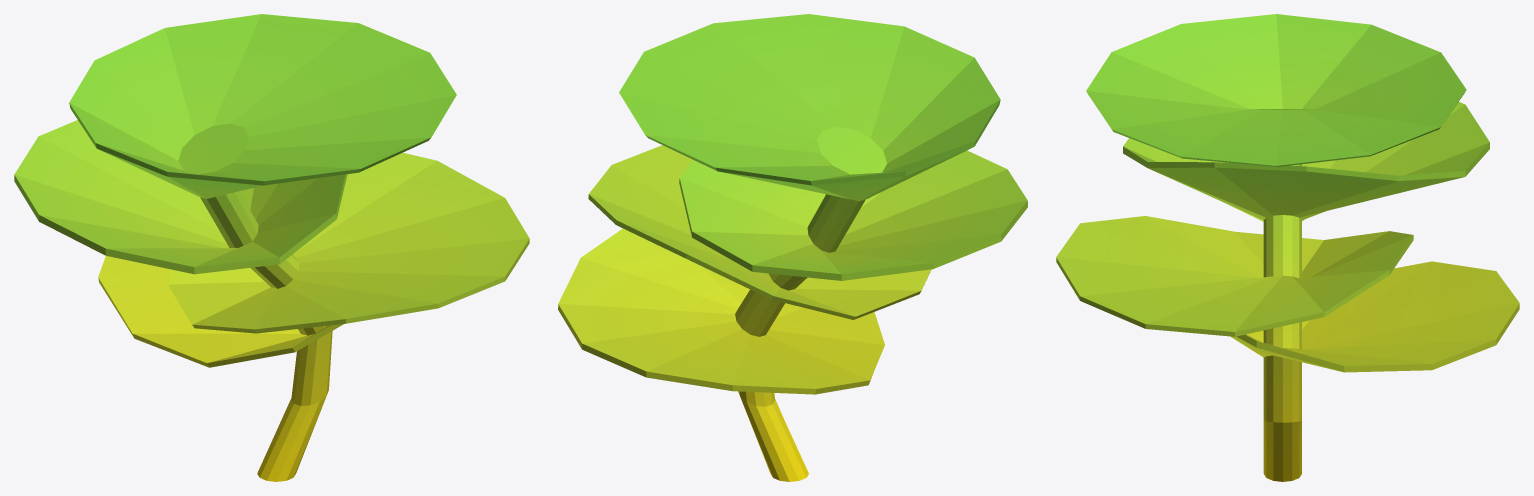
File: tree_02.fbx
3 views of the same model, side by side, from view 1: azimuth 30°, elevation 25°; view 2: azimuth 150°, elevation 25°; view 3: azimuth 270°, elevation 25° (orthographic).
Parts seen in each view (by area): view 1: tree_02; view 2: tree_02; view 3: tree_02.
Part boxes in pixels (x1,y1,x2,y2): tree_02: [14, 14, 529, 481]; tree_02: [558, 14, 1027, 481]; tree_02: [1056, 14, 1519, 481].
Bounding box in the file's own units: 177 × 152 × 168.
